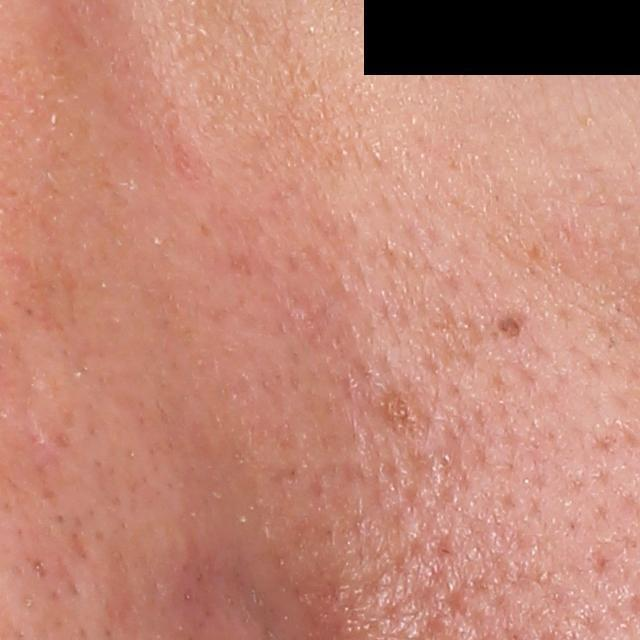nevus: (494, 308, 530, 340)
